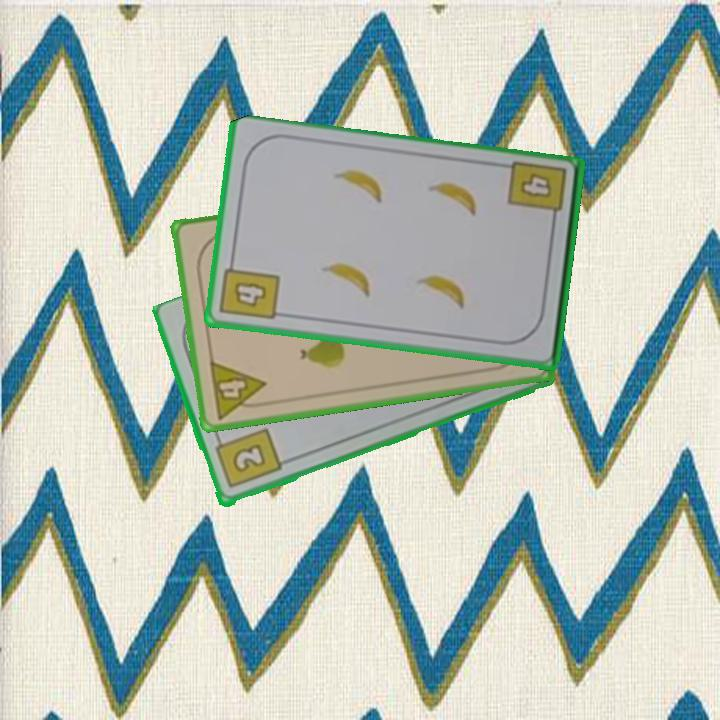2b: (211, 425, 284, 492)
4b: (505, 158, 570, 229), (216, 255, 283, 323)
4p: (206, 357, 271, 422)
